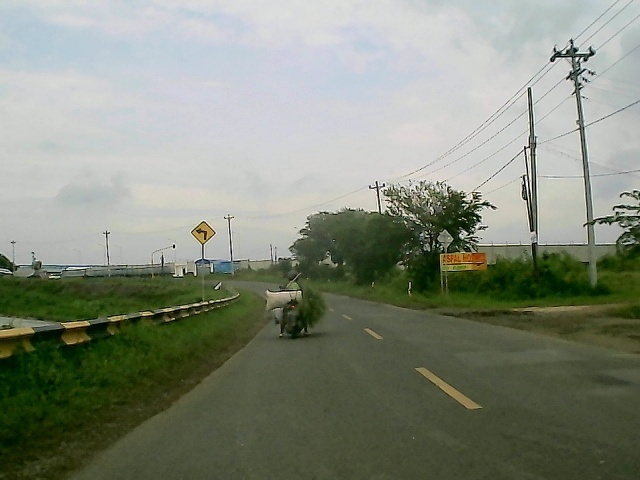Tikungan tajam ke kiri: (189, 219, 216, 246)
